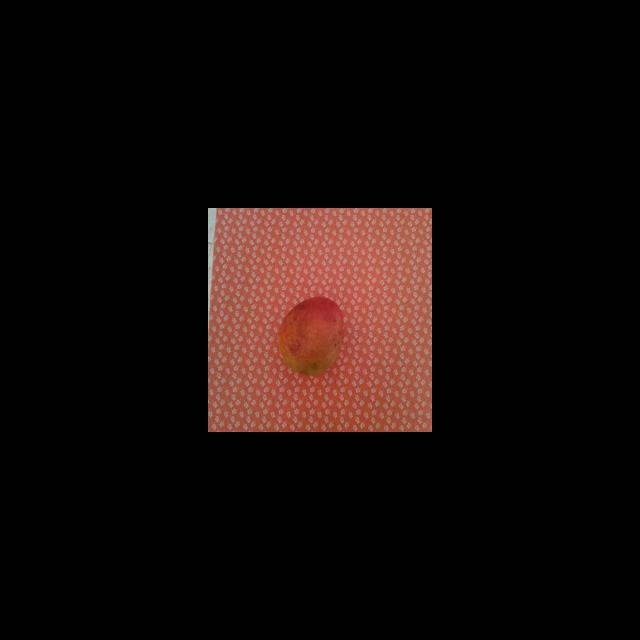Mango: (208, 208, 431, 431), (276, 296, 344, 376)
